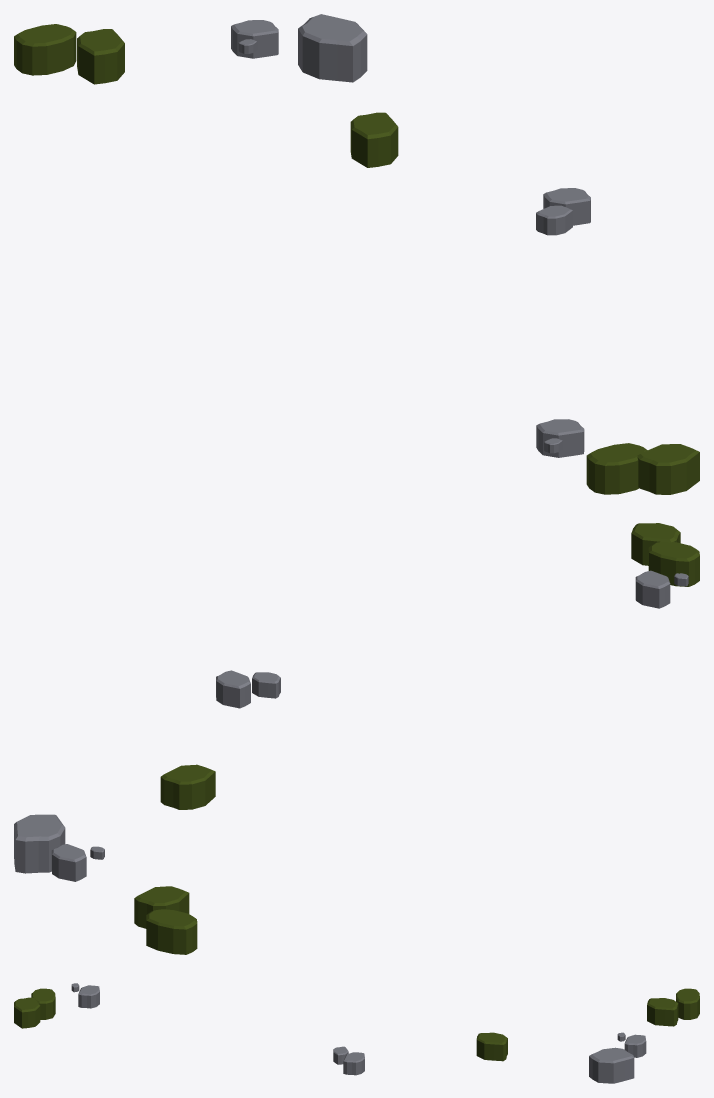
Rendered from stone2-s1.fbx.
3 views of the same model, one above another, from view 1: azimuth 30°, elevation 25°; view 2: azimuth 150°, elevation 25°; view 3: azimuth 270°, elevation 25° (orthographic). The views are drawn at different scales.
Visible parts, largest first — view 1: Cube.040, Cube.046, Cube.035, Cube, Cube.053, Cube.047, Cube.037, Cube.039, Cube.042, Cube.041; view 2: Cube.040, Cube.053, Cube.046, Cube, Cube.047, Cube.035, Cube.037, Cube.039, Cube.042, Cube.041; view 3: Cube.040, Cube.047, Cube.053, Cube.035, Cube.046, Cube, Cube.037, Cube.042, Cube.039, Cube.041.
Boxes of the visible parts, x1,y1,x2,y2 form: Cube.040: (298, 14, 367, 82); Cube.046: (14, 24, 76, 75); Cube.035: (637, 444, 699, 494); Cube: (586, 443, 647, 494); Cube.053: (350, 112, 398, 167); Cube.047: (77, 29, 124, 84); Cube.037: (536, 419, 584, 457); Cube.039: (231, 20, 278, 58); Cube.042: (543, 188, 590, 225); Cube.041: (536, 205, 572, 235); Cube.040: (14, 814, 65, 873); Cube.053: (160, 764, 215, 809); Cube.046: (146, 909, 197, 954); Cube: (648, 541, 699, 586); Cube.047: (134, 886, 189, 928); Cube.035: (631, 523, 680, 565); Cube.037: (635, 570, 670, 608); Cube.039: (51, 844, 86, 881); Cube.042: (216, 670, 250, 708); Cube.041: (252, 672, 280, 698); Cube.040: (589, 1047, 634, 1083); Cube.047: (647, 998, 678, 1026); Cube.053: (476, 1032, 507, 1061); Cube.035: (14, 997, 40, 1028); Cube.046: (676, 988, 699, 1019); Cube: (31, 988, 55, 1019); Cube.037: (78, 985, 99, 1008); Cube.042: (343, 1052, 364, 1075); Cube.039: (624, 1034, 646, 1057); Cube.041: (333, 1046, 348, 1064).
Size of the model in its own units: 19.5 by 2.56 by 71.04.
